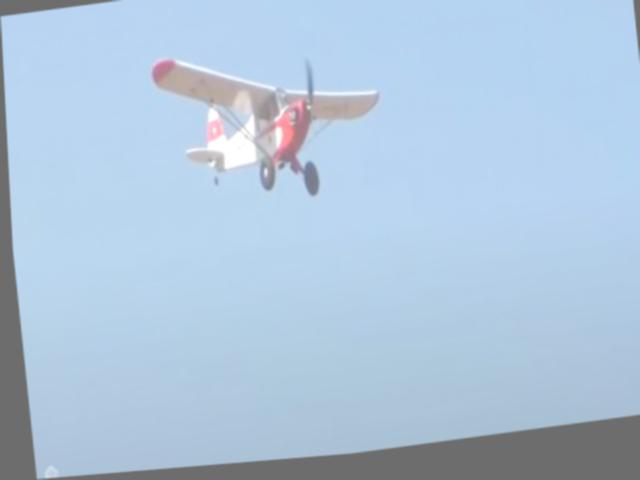uav: (147, 28, 394, 223)
